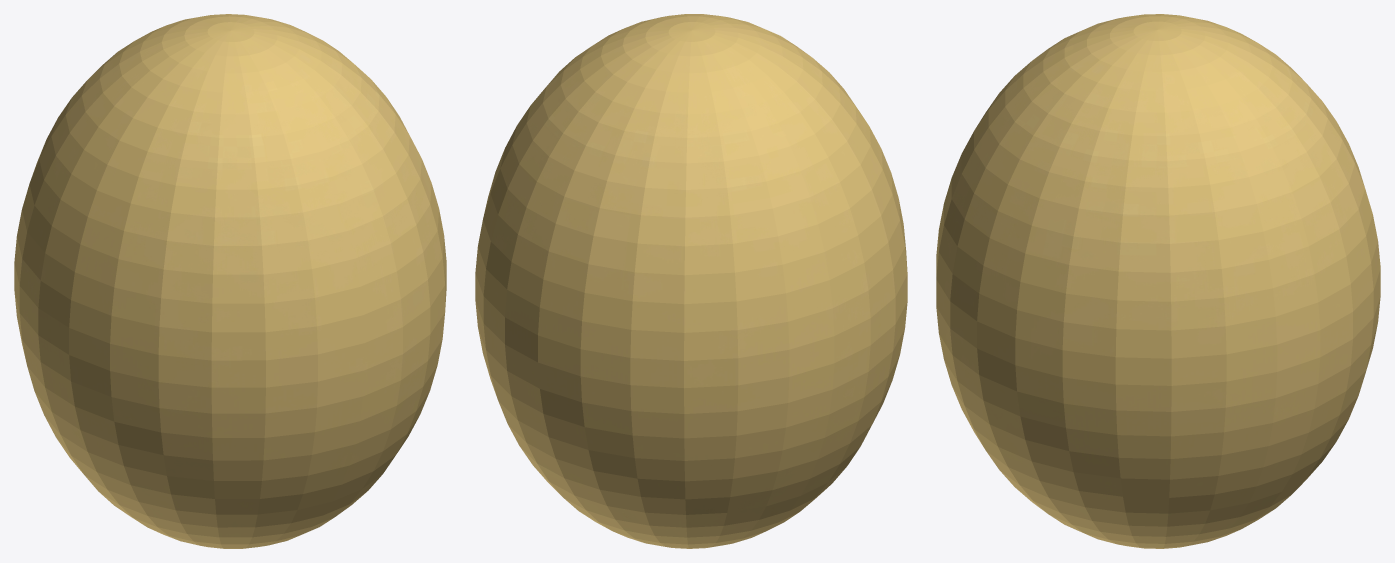
Rendered from huevo_danaus_chrysippus.fbx.
3 views of the same model, side by side, from view 1: azimuth 30°, elevation 25°; view 2: azimuth 150°, elevation 25°; view 3: azimuth 270°, elevation 25° (orthographic).
Parts seen in each view (by area): view 1: Sphere; view 2: Sphere; view 3: Sphere.
Boxes of the visible parts, <box> form: Sphere: <box>14,14,446,548</box>; Sphere: <box>475,14,907,548</box>; Sphere: <box>936,14,1380,548</box>.
Bounding box in the file's own units: 160 × 206 × 165.
1 material, 1 textured.
